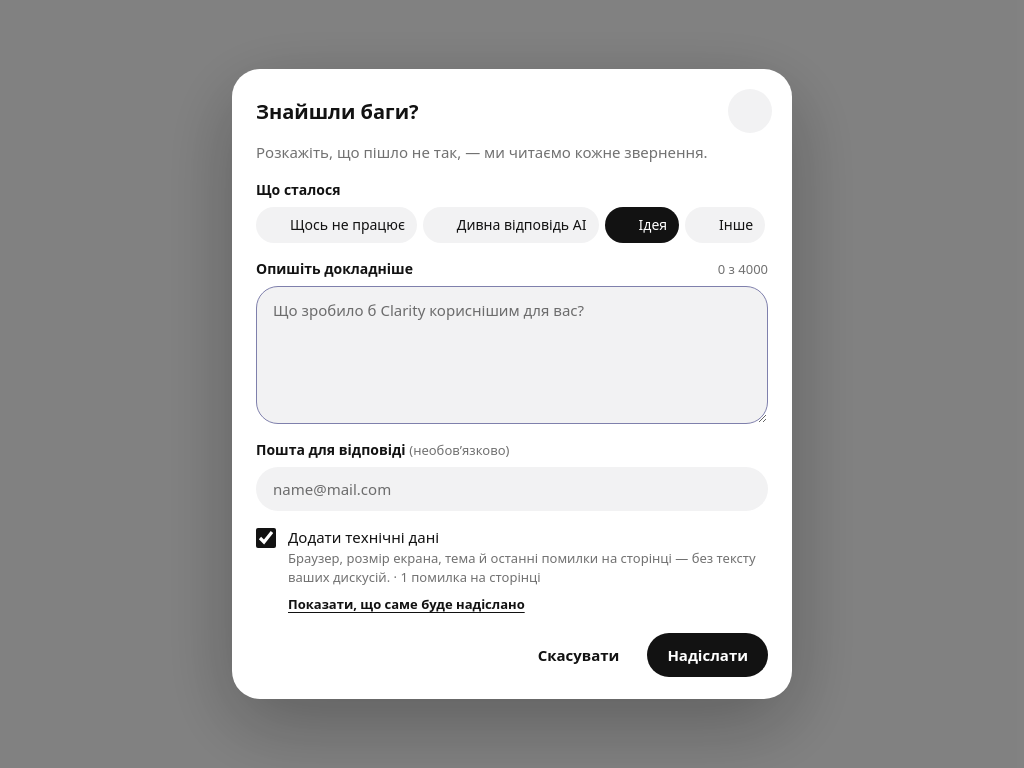
Test: «Знайшли баги?» › гість надсилає звернення з поштою й технічними даними та бачить номер
The image size is (1024, 768).
In the text box labelled "Опишіть докладніше": [512, 355] box [256, 286, 768, 424], type "Додайте темну тему на лендинг"
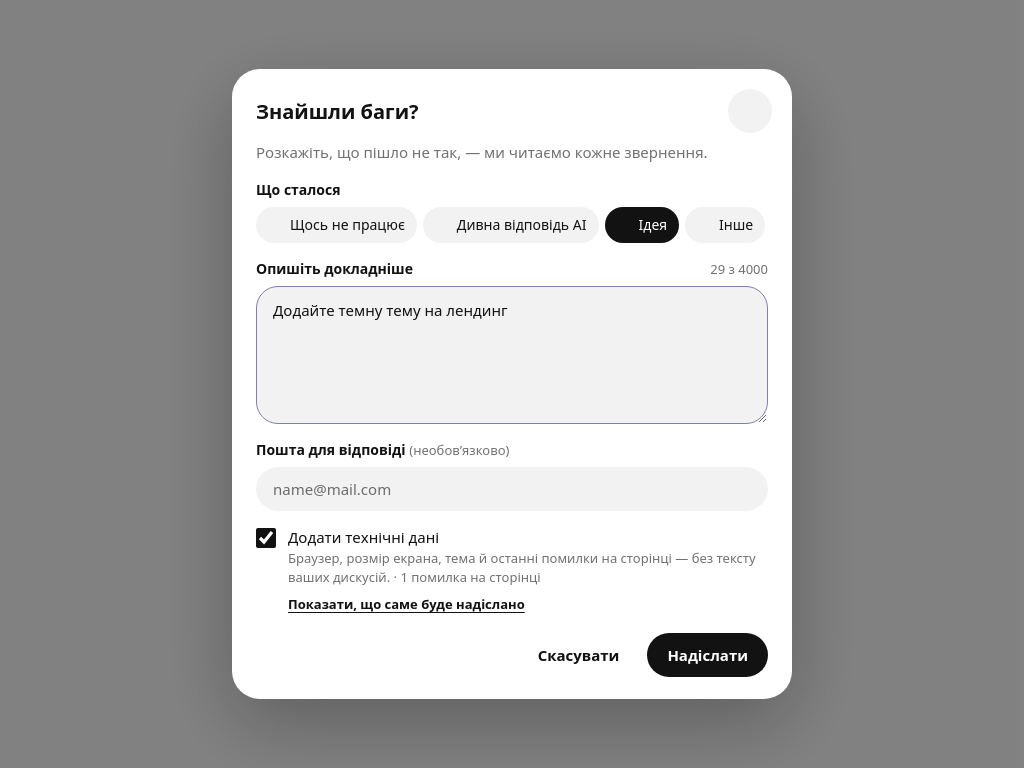
In the field labelled "Пошта для відповіді (необов’язково)": [512, 489] box [256, 467, 768, 511], type "guest@example.com"
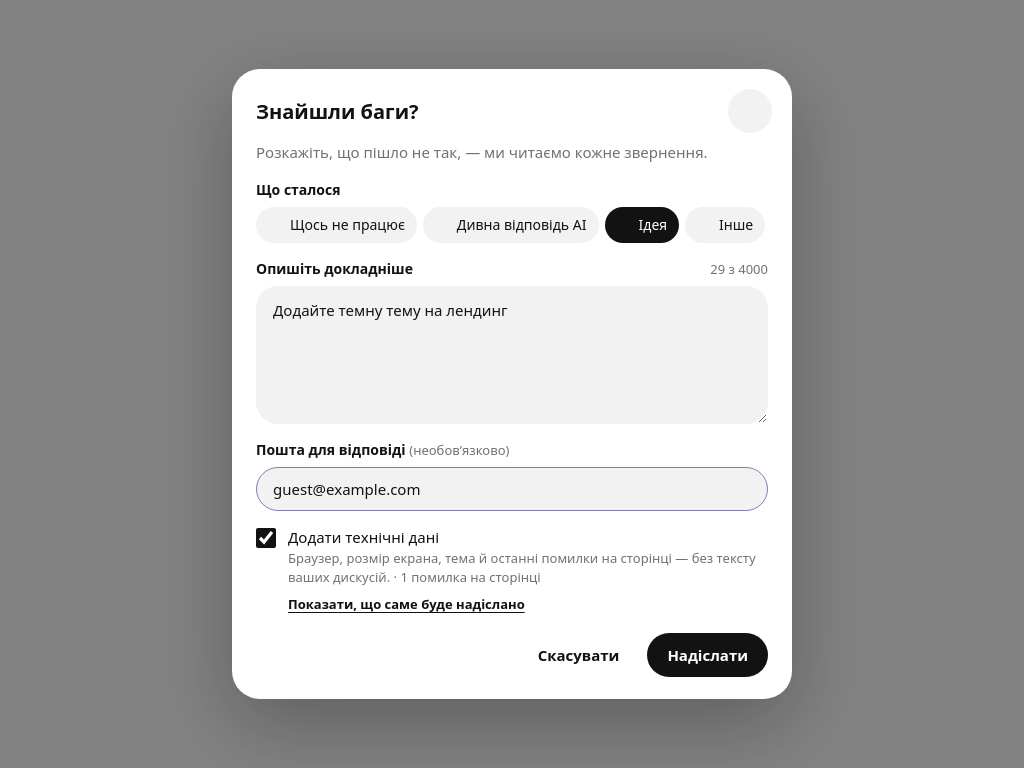
Click the button "Надіслати": [708, 655] box [647, 633, 768, 677]
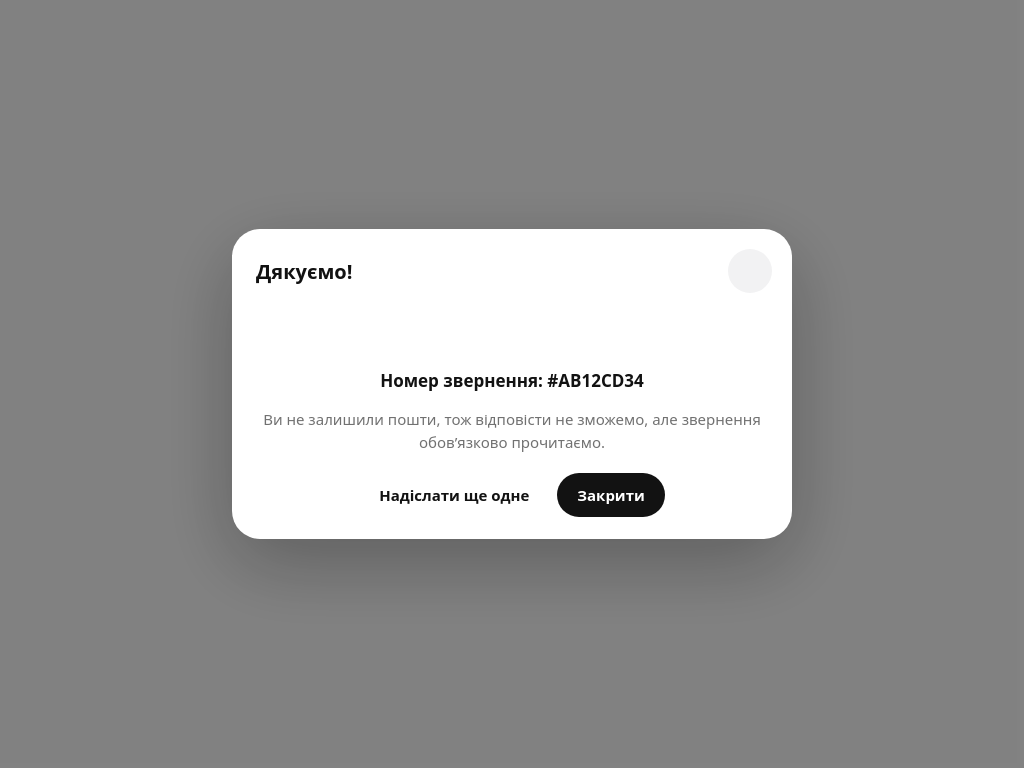
Check: the text "Номер звернення: #AB12CD34" is shown, box [380, 369, 644, 392]
